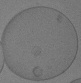small: (32, 67, 43, 77), (32, 46, 41, 57), (57, 15, 63, 23)
